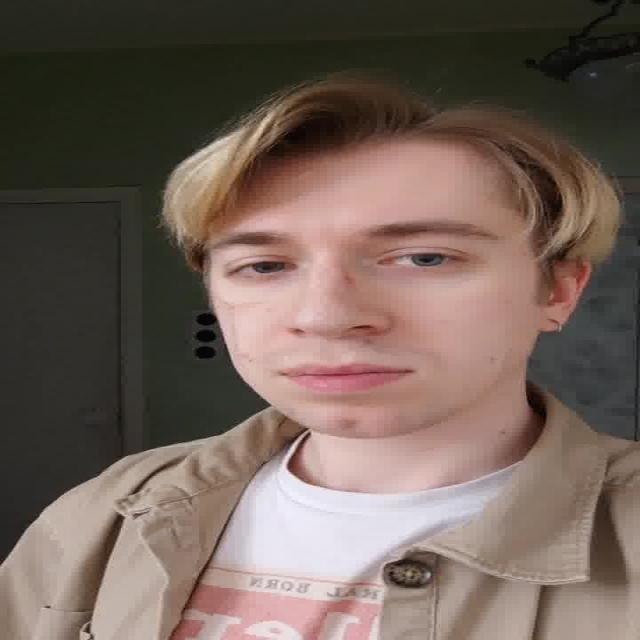earlobe: (534, 255, 594, 334)
